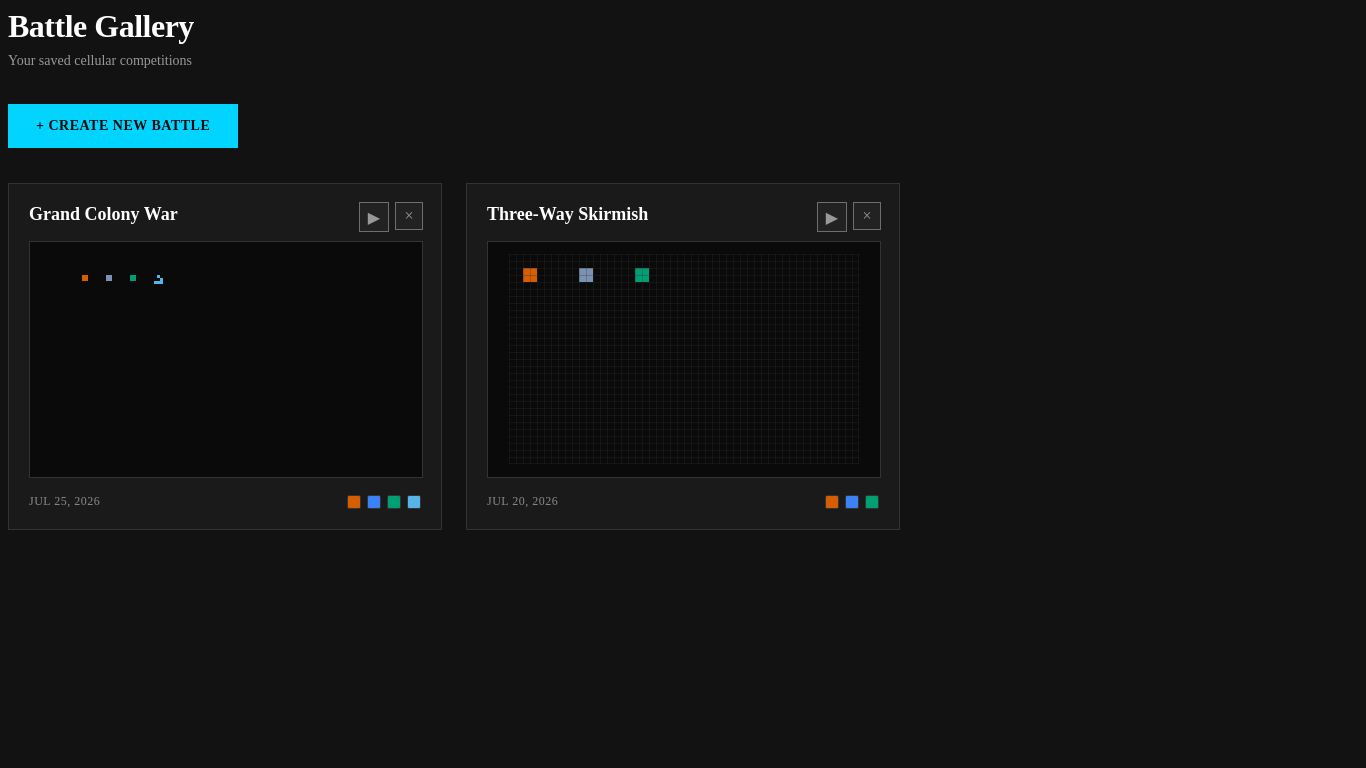
Test case: BattleGallery — delete flow (Story 1.13) › a delete rejecting with a CorruptDataError(gol:battles) publishes its notice only after the dialog has exited
Click the button named "Delete " at (409, 216), box [395, 202, 423, 230]
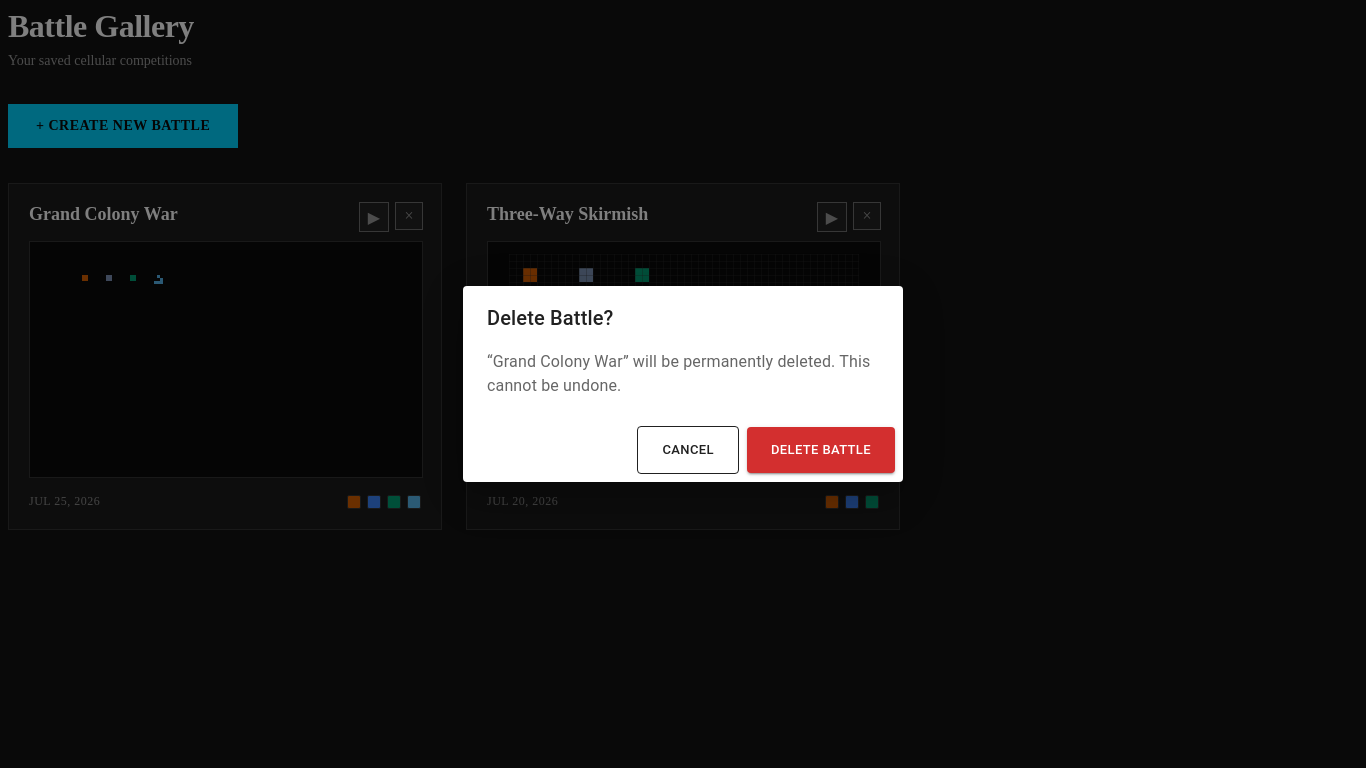
Expected: the dialog is shown, [463, 286, 903, 482]
Click the button "Delete Battle" at (821, 450), box [747, 427, 895, 473]
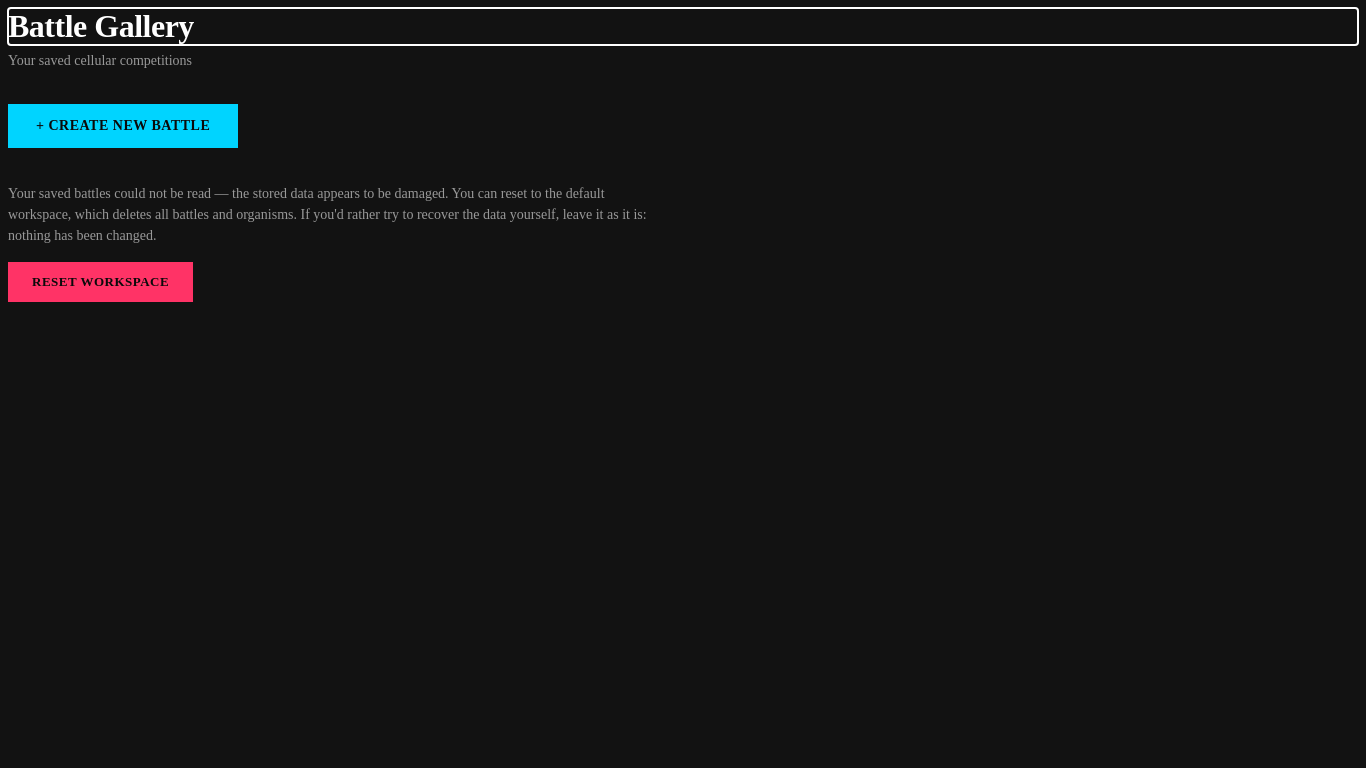
Expected: the button "Reset Workspace" is shown, [8, 262, 193, 302]
